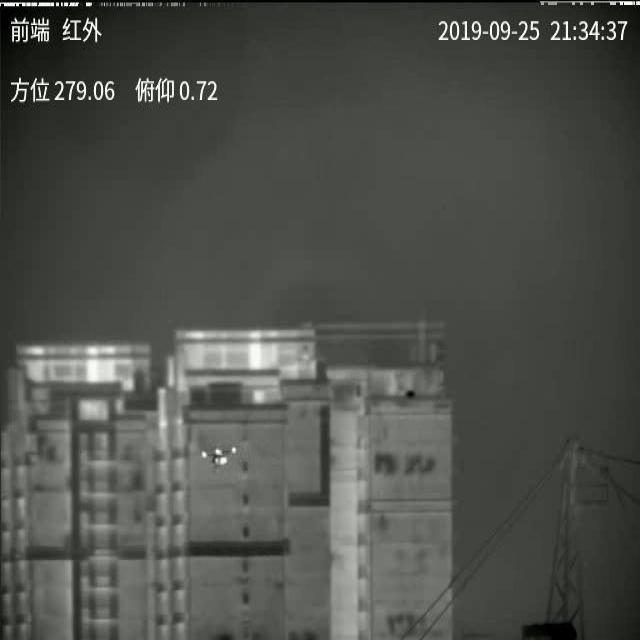drone: (212, 446, 238, 467), (200, 451, 207, 459)
